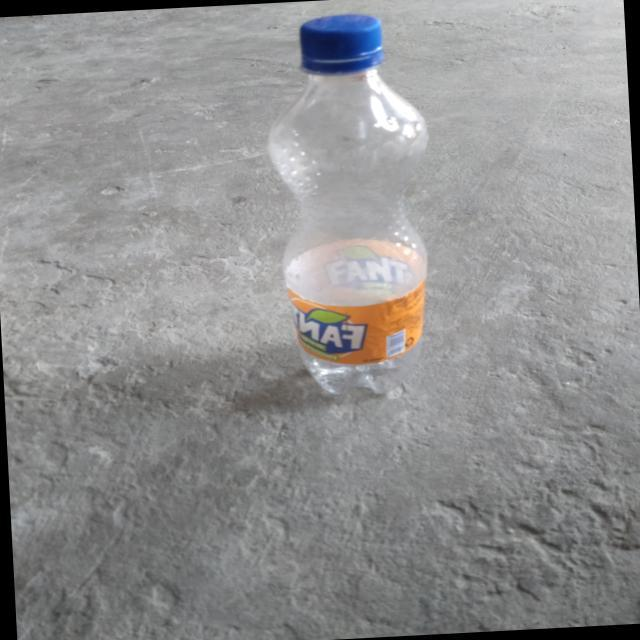good: (252, 0, 457, 410)
